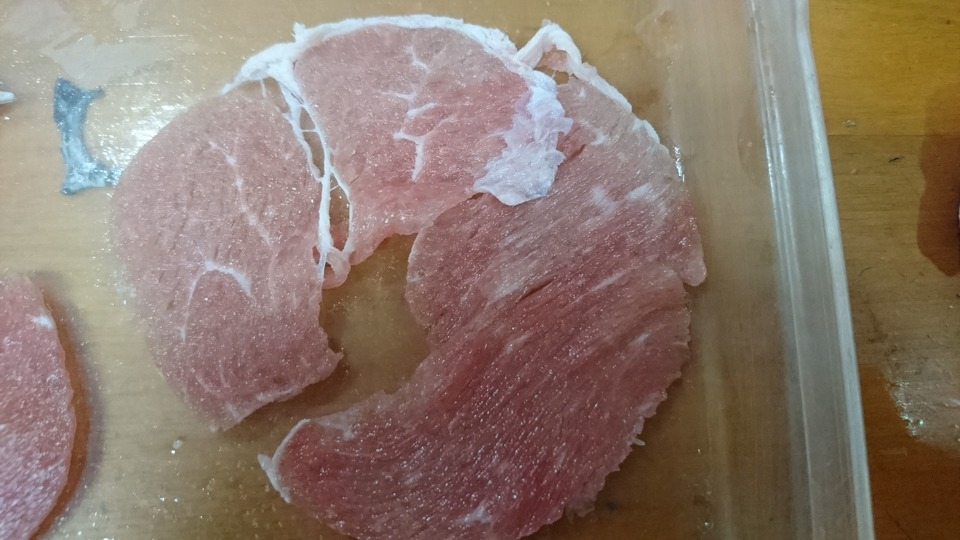restructured meat: (100, 29, 718, 532), (1, 257, 81, 532)
